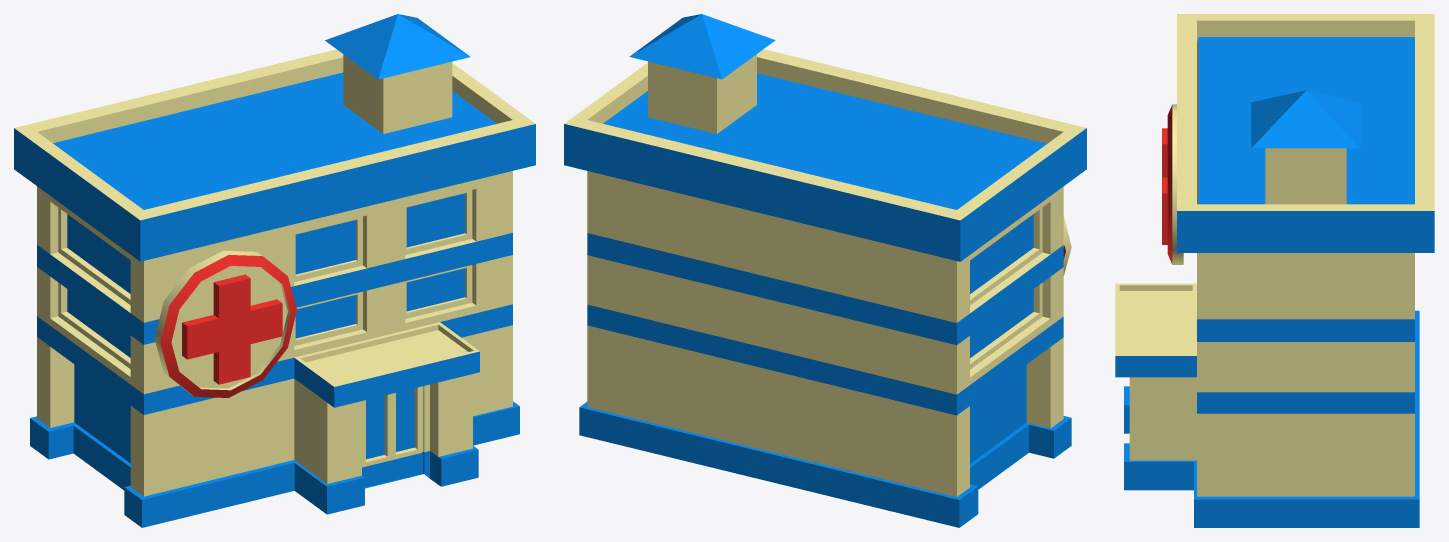
File: HouseFour.fbx
3 renders of one model, left to right at view 1: azimuth 30°, elevation 25°; view 2: azimuth 150°, elevation 25°; view 3: azimuth 270°, elevation 25°, orthographic. The views are drawn at different scales.
Parts seen in each view (by area): view 1: Cube.005; view 2: Cube.005; view 3: Cube.005.
Part boxes in pixels (left/top/right/bottom): Cube.005: left=14, top=14, right=535, bottom=527; Cube.005: left=564, top=14, right=1086, bottom=527; Cube.005: left=1115, top=14, right=1434, bottom=527.
Bounding box in the file's own units: 153 × 146 × 105.
